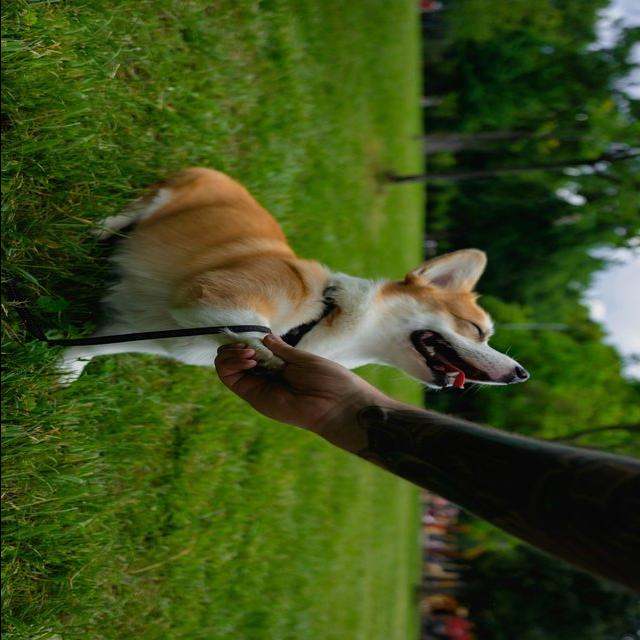corgi: (50, 166, 531, 394)
